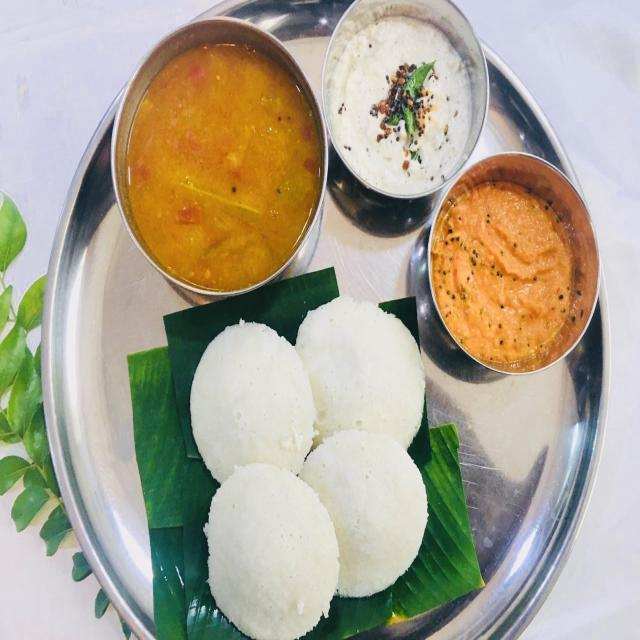idli: (203, 469, 338, 640), (295, 298, 428, 461), (297, 439, 429, 602), (193, 322, 313, 486)
